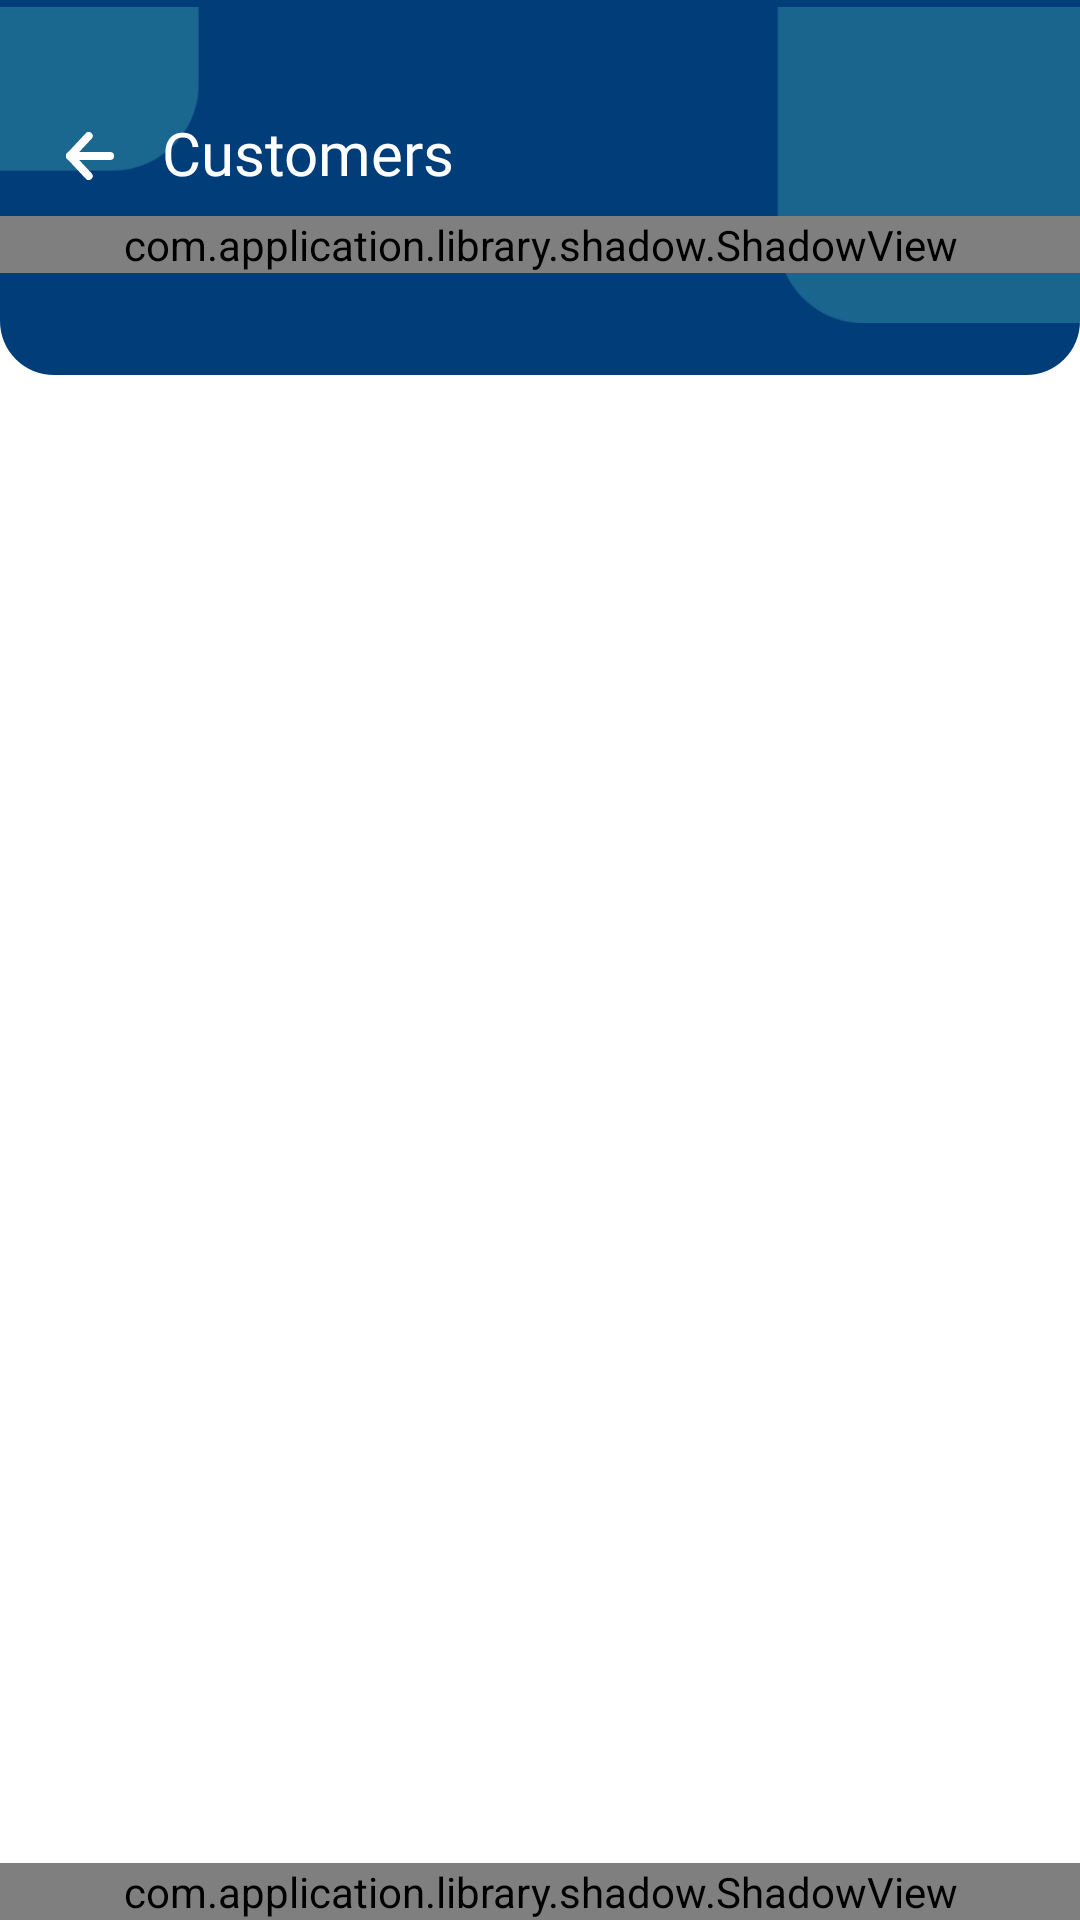

Named icons in this screenshot (1080px×1920px) and their centers, point (x, y):
arrow left: point (90, 156)
